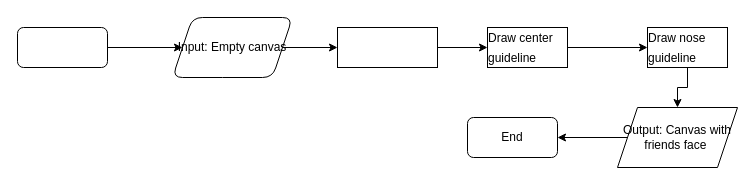
Image size: 755x185. Some labels were removed from this diagram. The centre of each missing label's shape, as x and y in pixels:
Draw oval face borders: point 387,47
Start: point 62,47
